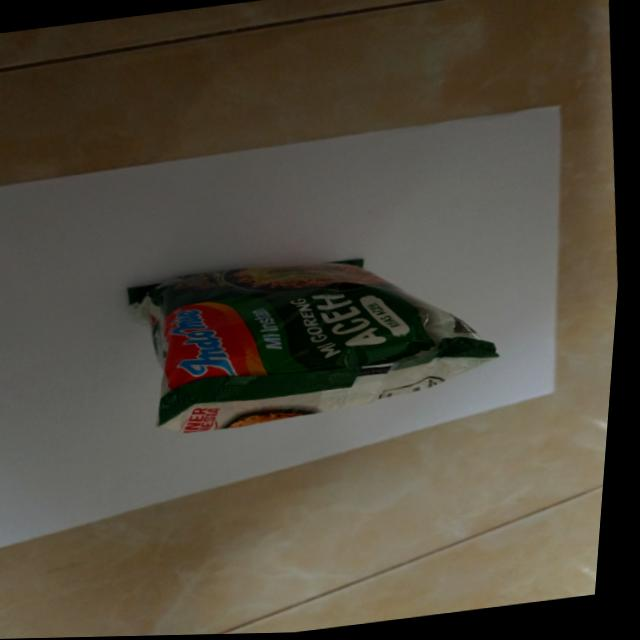gery-salut-coconut: (116, 234, 517, 443)
